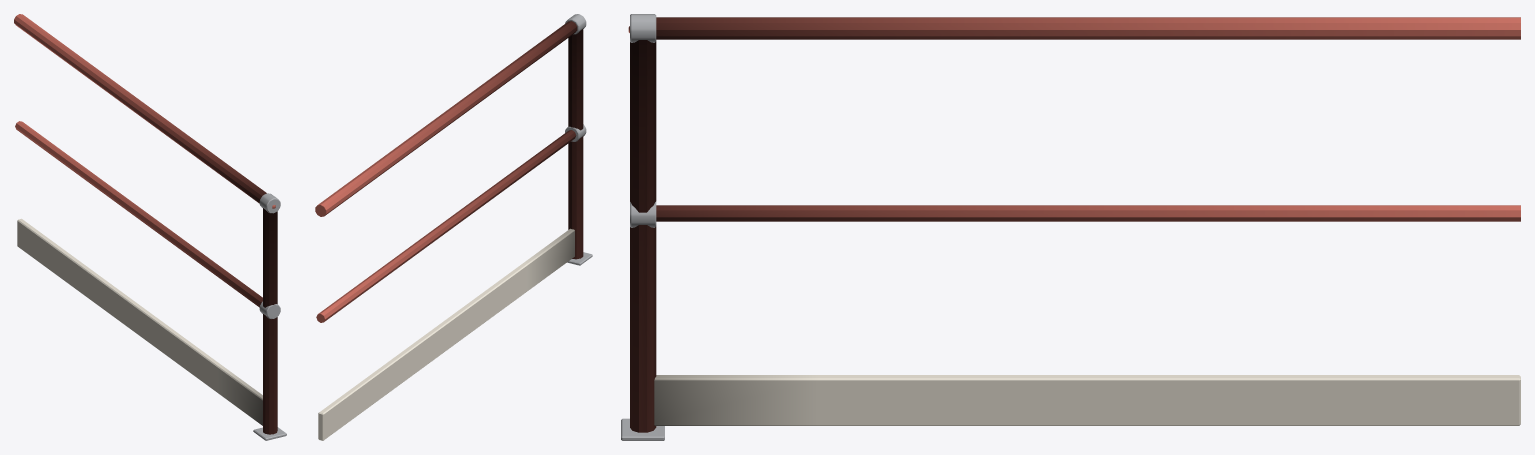
Rendered from rail.glb.
3 views of the same model, side by side, from view 1: azimuth 30°, elevation 25°; view 2: azimuth 150°, elevation 25°; view 3: azimuth 270°, elevation 25° (orthographic). The views are drawn at different scales.
Parts seen in each view (by area): view 1: PART; view 2: PART; view 3: PART.
Boxes of the visible parts, <box> form: PART: <box>14,14,286,440</box>; PART: <box>315,14,592,440</box>; PART: <box>621,14,1520,440</box>.
Bounding box in the file's own units: 0.1 × 1.05 × 2.05.
